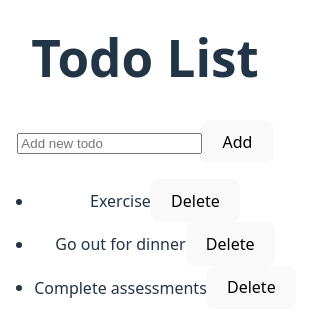
Test: TodoList Component › adds a new todo
Type "New Todo" into the field with placeholder "Add new todo". click: (110,143)
box: [17,133,202,154]
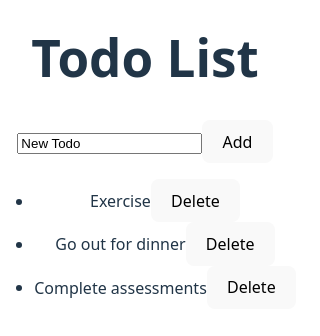
Click the button "Add". click: (238,142)
box: [202,120,273,163]
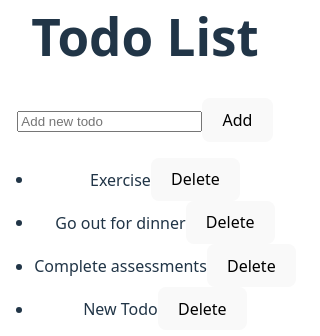
Expected: the list item "New Todo" is shown, [83,298,158,320]
